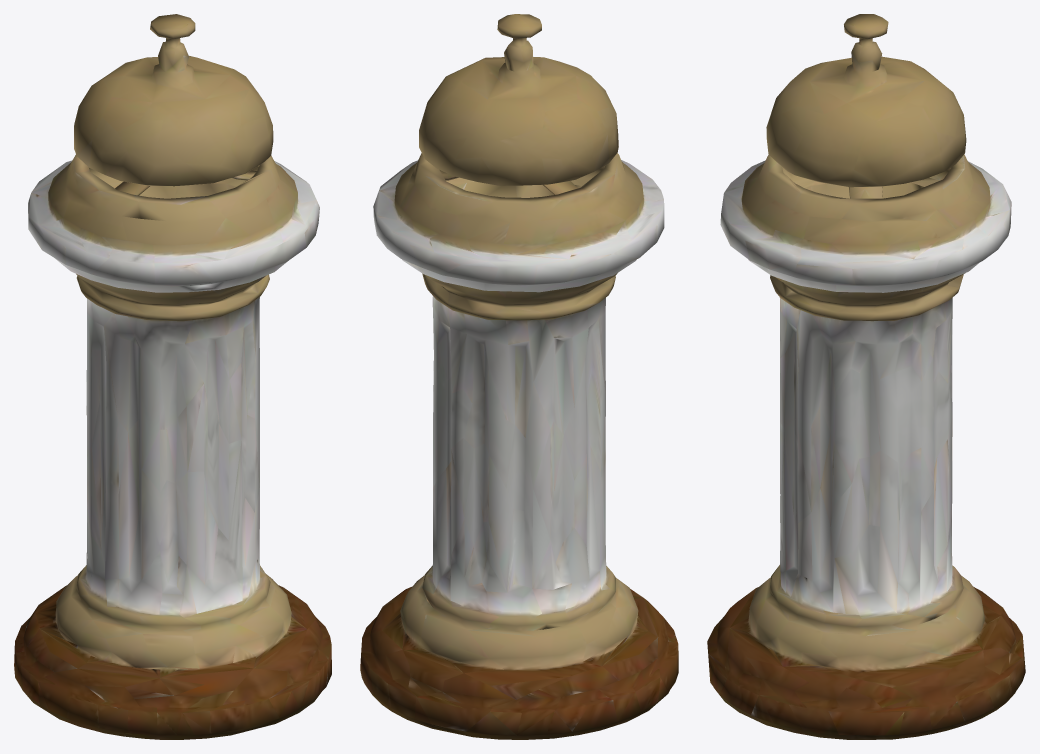
The model's file is pitBell.glb.
The picture shows the model from 3 angles, left to right: view 1: azimuth 30°, elevation 25°; view 2: azimuth 150°, elevation 25°; view 3: azimuth 270°, elevation 25°; orthographic projection.
Visible parts, largest first — view 1: Mesh_0; view 2: Mesh_0; view 3: Mesh_0.
Part boxes in pixels (x1,y1,x2,y2): Mesh_0: (14,14,331,739); Mesh_0: (360,14,678,739); Mesh_0: (707,14,1025,739).
Bounding box in the file's own units: 0.5741 × 1.3 × 0.574.
Materials: 1 (1 with a texture image).
